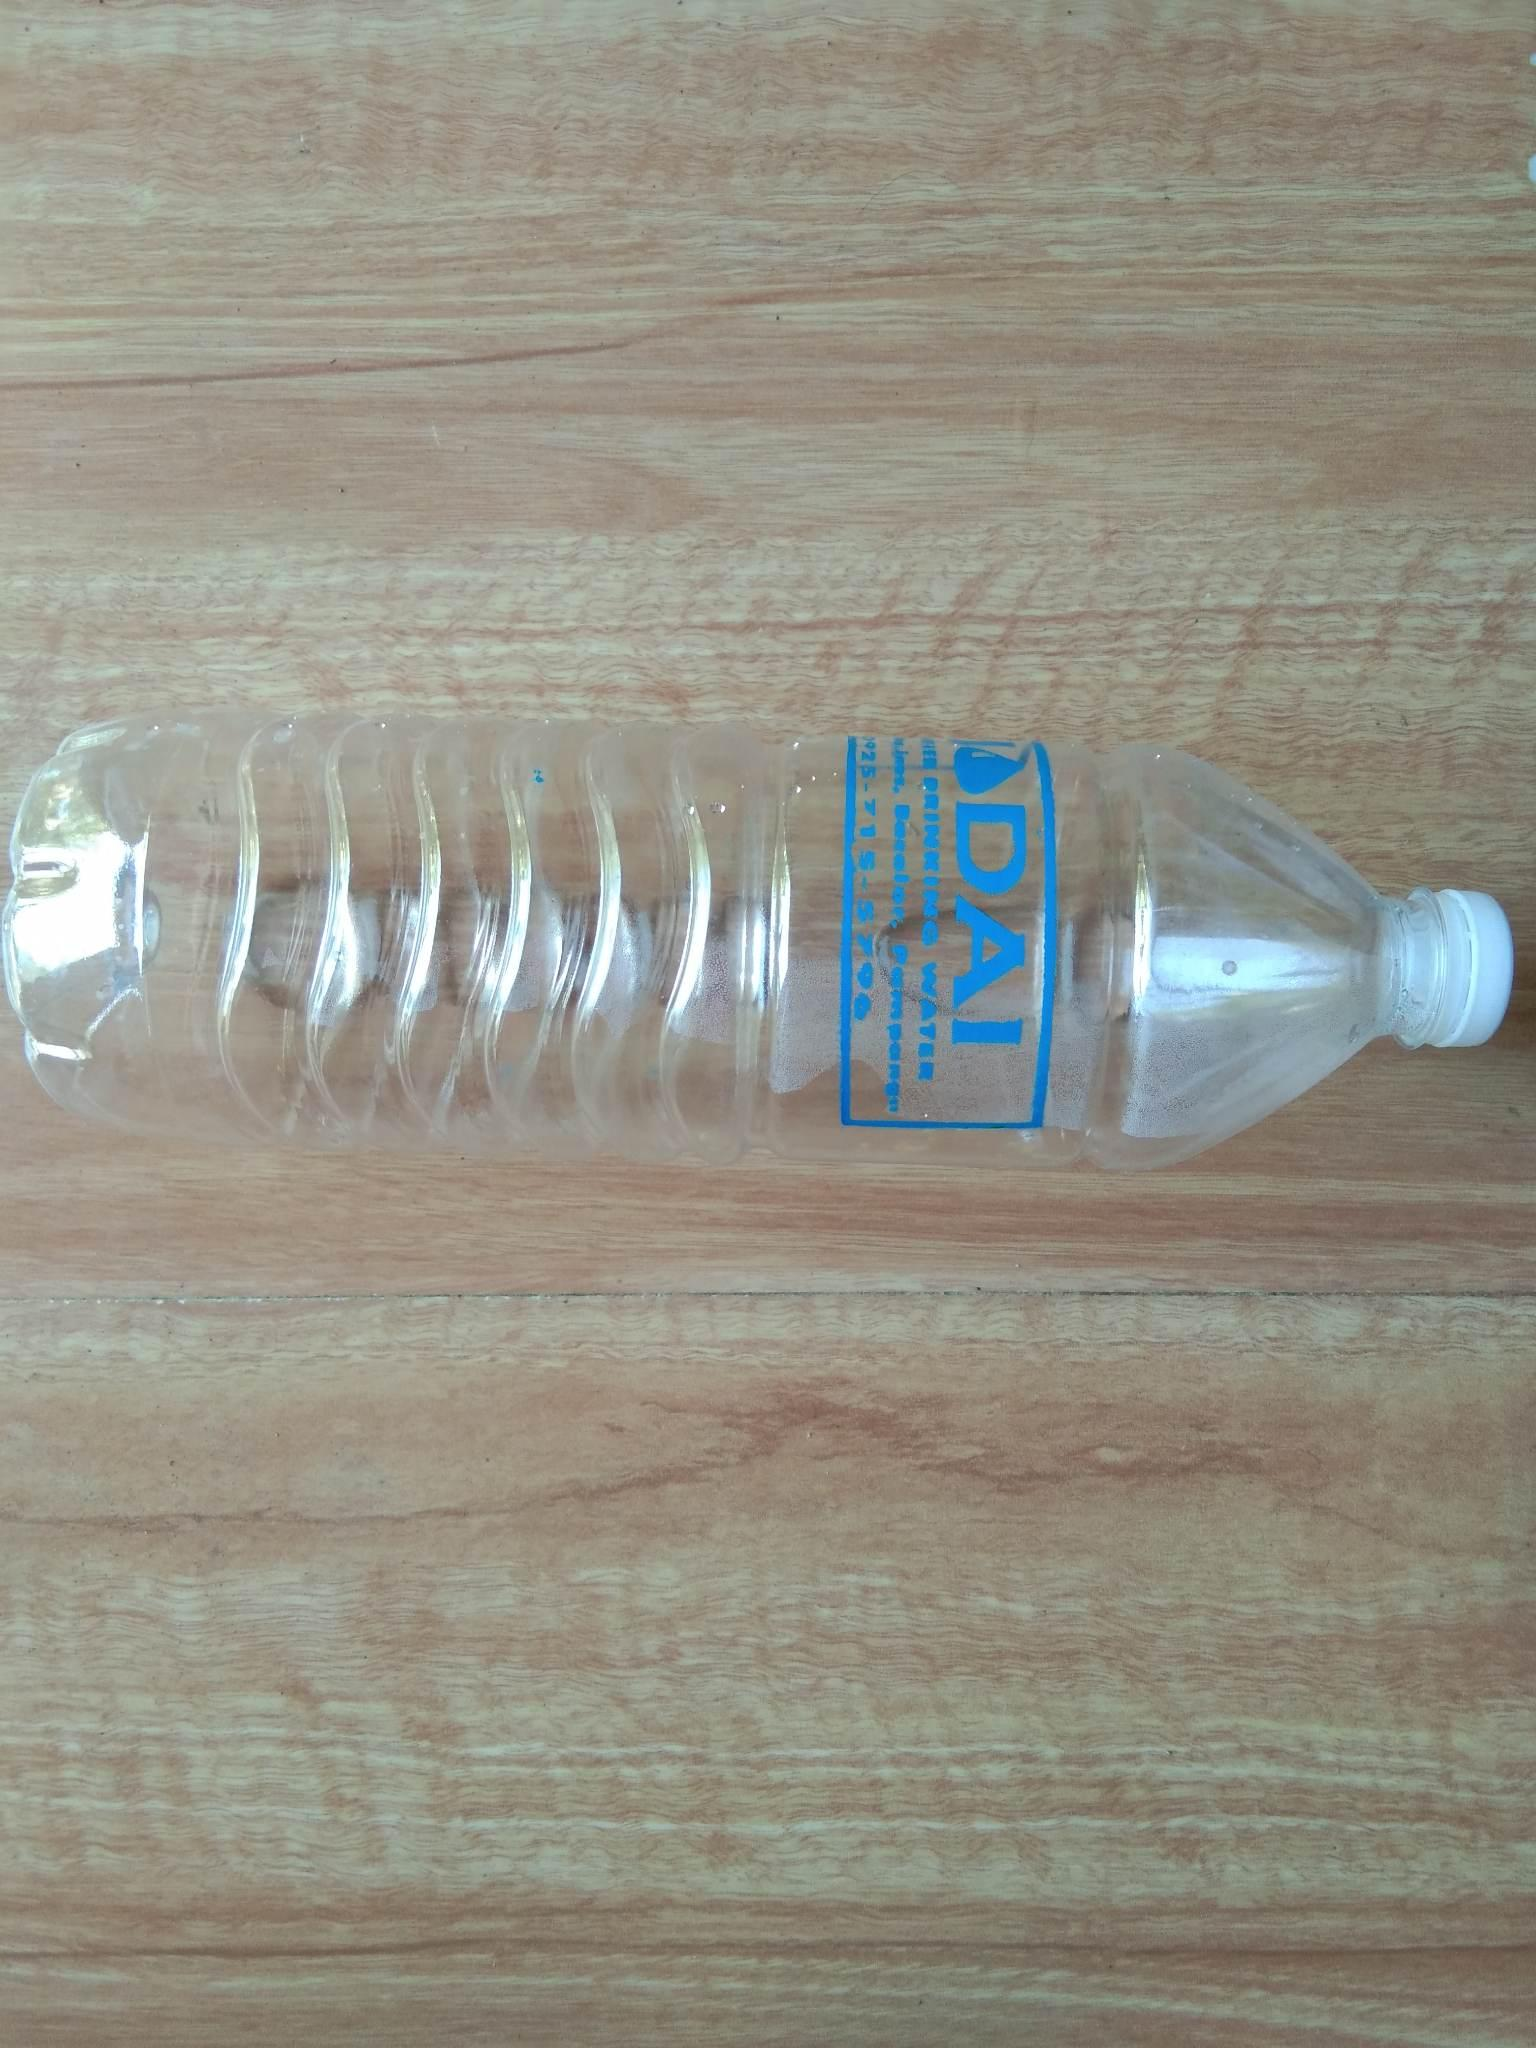plastic: (2, 664, 1534, 1256)
